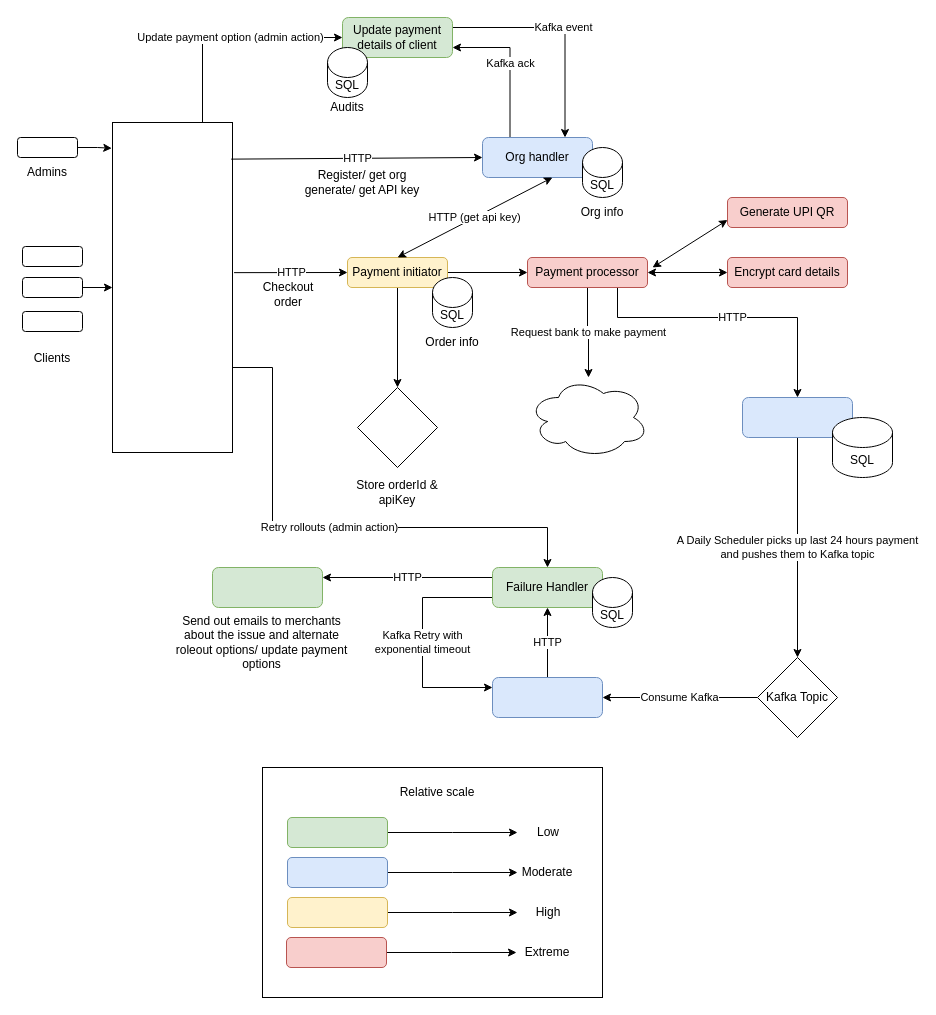
Some shapes in this 936 by 1015 pixel diagram are drawn without their labels. Each missing label, with the box of its shape:
API Gateway security rate-limiting ddos attack: (112, 122, 232, 452)
Failure Reporter: (212, 566, 322, 608)
Payment Logger: (742, 396, 852, 438)
Payment rollout: (492, 676, 602, 718)
Redis: (356, 386, 438, 468)
Third party bank server: (528, 376, 648, 458)
